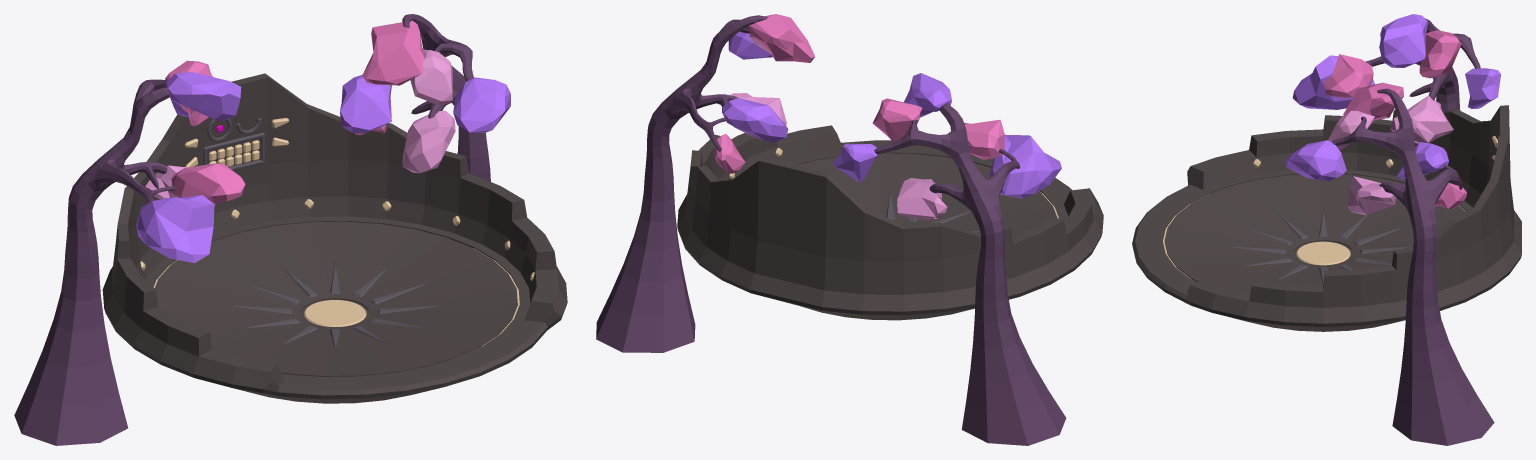
Rendered from DrmArena.fbx.
3 renders of one model, left to right at view 1: azimuth 30°, elevation 25°; view 2: azimuth 150°, elevation 25°; view 3: azimuth 270°, elevation 25°, orthographic. The views are drawn at different scales.
Parts seen in each view (by area): view 1: Level1, Cube.018, Cube.034, Cube.021, Cube.028, Cube.031, Cube.025, Cube.027, Cube.026, Cube.022, Cube.033, Cube.029 (+4 smaller); view 2: Level1, Cube.018, Cube.021, Cube.034, Cube.028, Cube.027, Cube.035, Cube.036, Cube.031, Cube.033, Cube.032, Cube.030 (+2 smaller); view 3: Level1, Cube.021, Cube.031, Cube.025, Cube.022, Cube.018, Cube.034, Cube.033, Cube.035, Cube.036, Cube.026, Cube.028 (+4 smaller).
Boxes of the visible parts, x1,y1,x2,y2 form: Level1: [102, 73, 567, 403]; Cube.018: [14, 79, 175, 445]; Cube.034: [136, 195, 214, 263]; Cube.021: [402, 14, 490, 181]; Cube.028: [362, 20, 424, 85]; Cube.031: [166, 72, 241, 121]; Cube.025: [453, 77, 510, 132]; Cube.027: [340, 74, 391, 132]; Cube.026: [402, 110, 455, 173]; Cube.022: [233, 262, 437, 349]; Cube.033: [171, 163, 245, 203]; Cube.029: [410, 49, 452, 104]; Level1: [677, 125, 1103, 320]; Cube.018: [874, 103, 1066, 445]; Cube.021: [596, 15, 767, 352]; Cube.034: [989, 135, 1061, 198]; Cube.028: [747, 14, 814, 62]; Cube.027: [722, 98, 788, 143]; Cube.035: [896, 178, 947, 220]; Cube.036: [872, 98, 922, 142]; Cube.031: [904, 73, 951, 117]; Cube.033: [964, 119, 1004, 159]; Cube.032: [832, 143, 878, 182]; Cube.030: [714, 134, 745, 173]; Level1: [1132, 105, 1521, 331]; Cube.021: [1331, 88, 1494, 445]; Cube.031: [1379, 14, 1428, 67]; Cube.025: [1286, 140, 1346, 181]; Cube.022: [1232, 209, 1409, 284]; Cube.018: [1365, 18, 1480, 111]; Cube.034: [1292, 55, 1374, 109]; Cube.033: [1324, 54, 1373, 98]; Cube.035: [1390, 95, 1453, 143]; Cube.036: [1419, 30, 1461, 78]; Cube.026: [1348, 176, 1396, 215]; Cube.028: [1343, 82, 1403, 120].
Size of the model in its own units: 3012 by 2021 by 2355.
